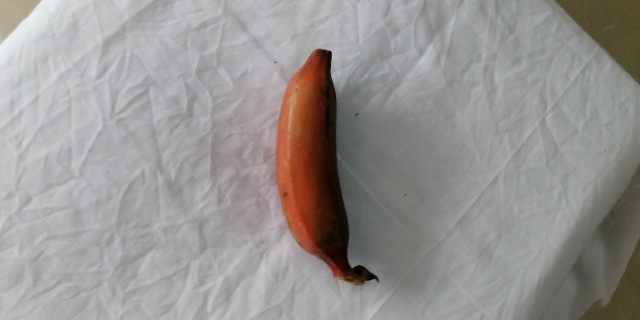banana_red: (275, 47, 385, 285)
